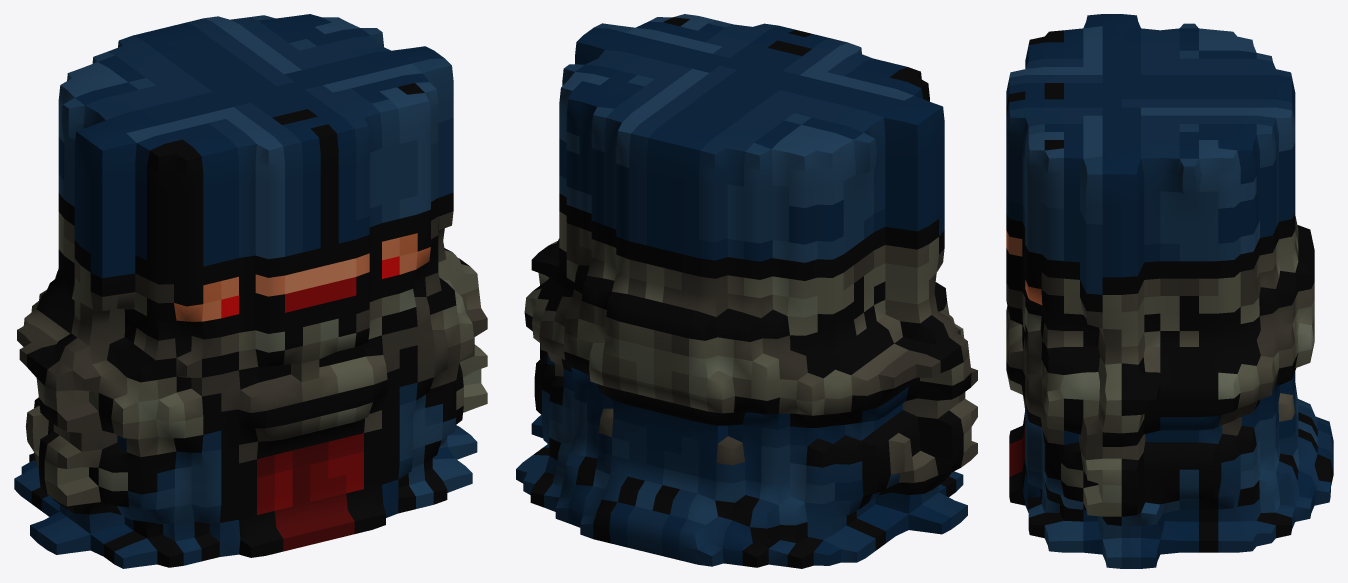
The model's file is Icon_715_03.obj.
3 views of the same model, side by side, from view 1: azimuth 30°, elevation 25°; view 2: azimuth 150°, elevation 25°; view 3: azimuth 270°, elevation 25° (orthographic). The views are drawn at different scales.
Bounding box in the file's own units: 2.4 × 2.2 × 1.7.
Materials: 1 (1 with a texture image).
